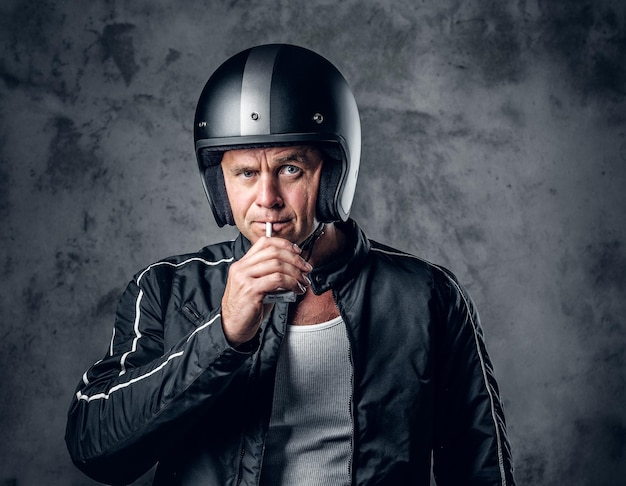cigarette: (263, 219, 272, 239)
